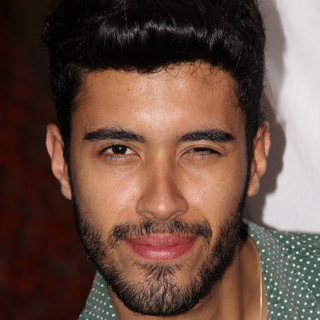eye: (180, 139, 228, 164), (94, 139, 141, 164)
